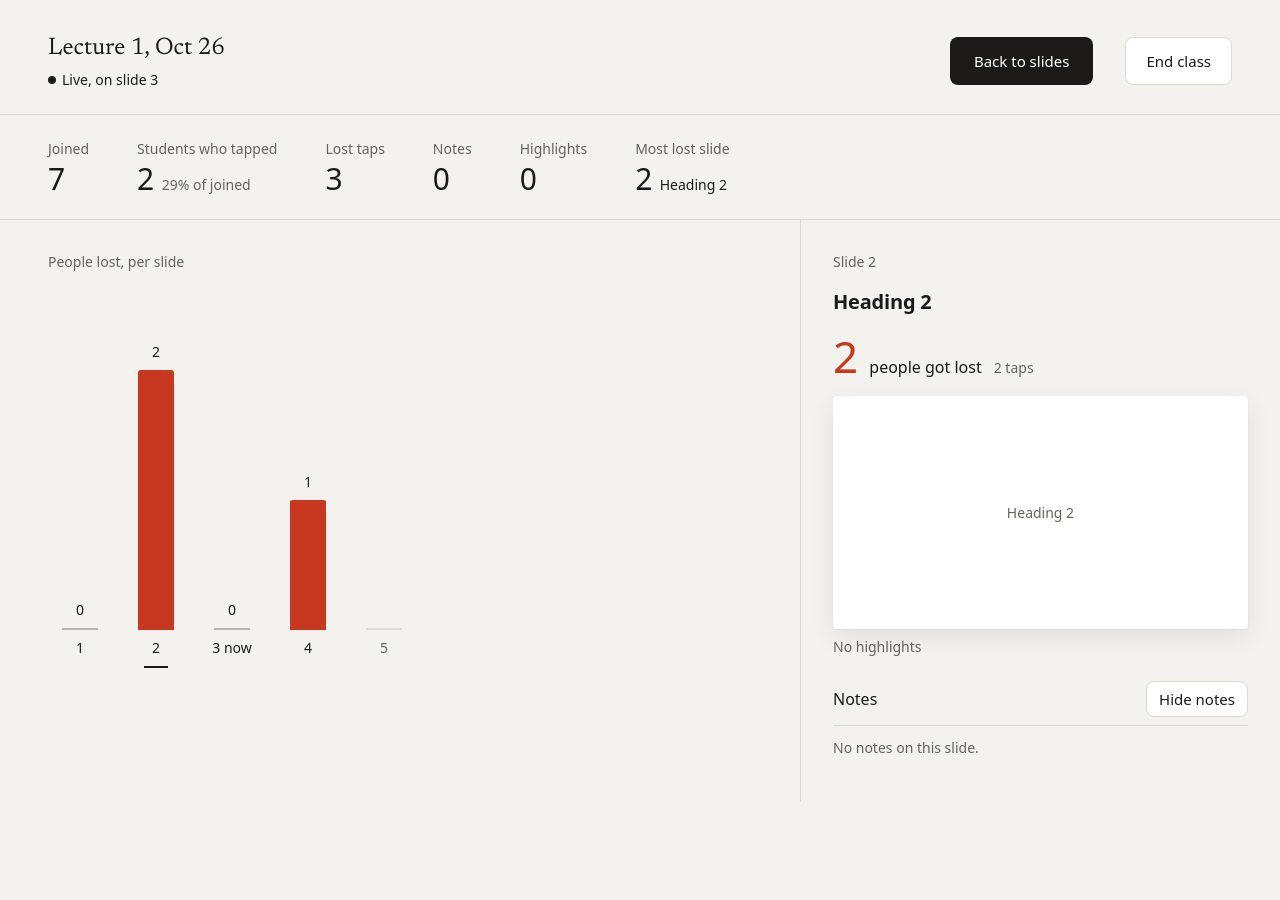
Scenario: End class › Keep going closes the confirm, ends nothing and gives focus back to End class
The width and height of the screenshot is (1280, 900).
Click the button "End class" at (1179, 61), box [1125, 37, 1232, 85]
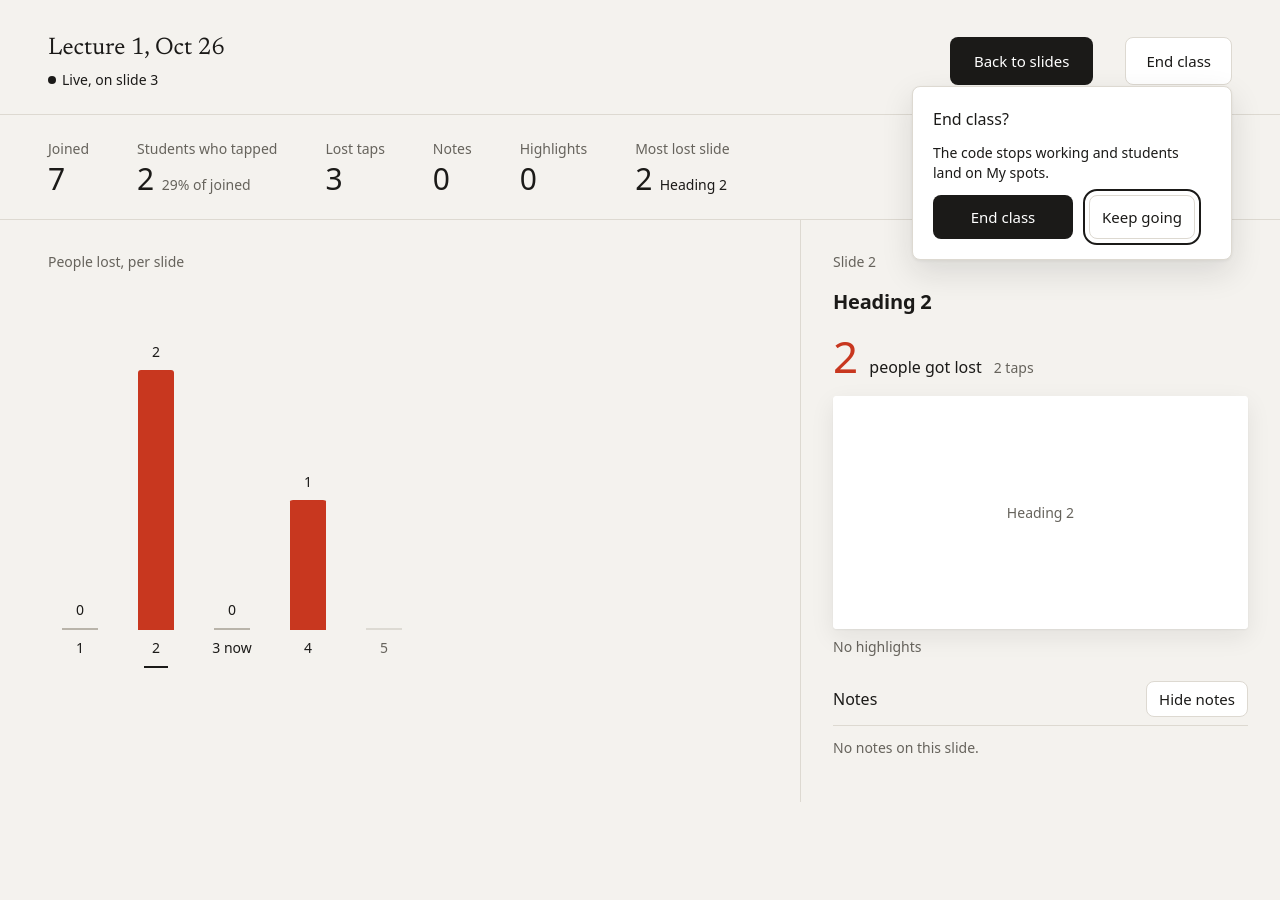
Click the button "Keep going" at (1142, 217), box [1089, 195, 1195, 239]
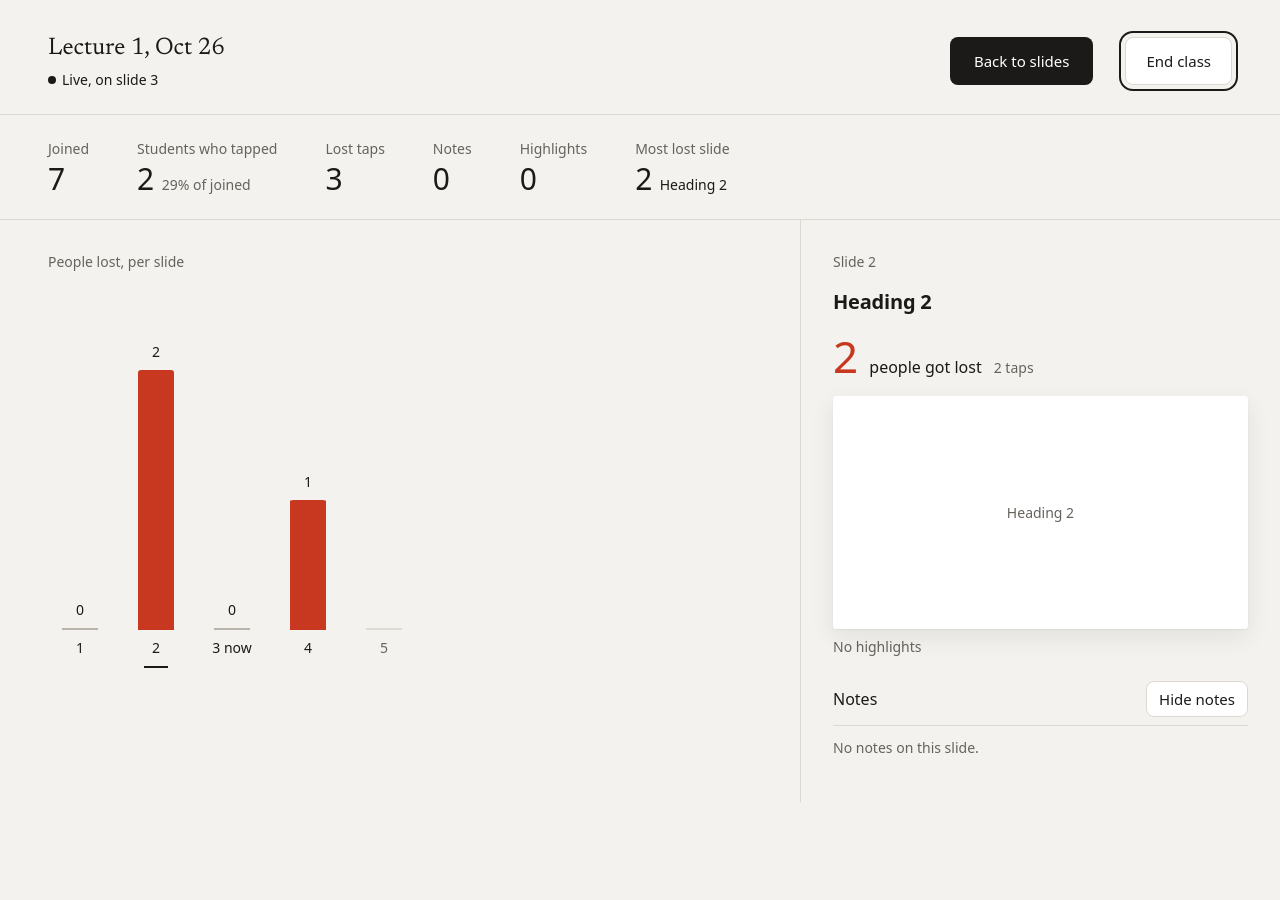
Now the dialog is gone
